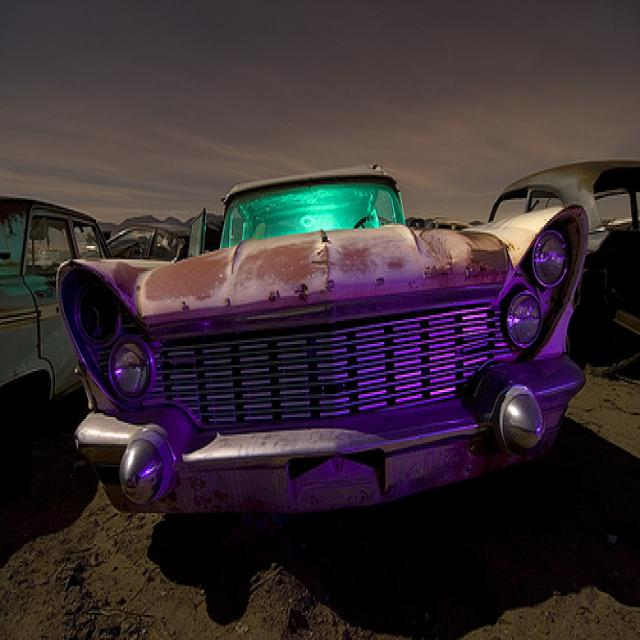Car: (71, 162, 591, 522)
